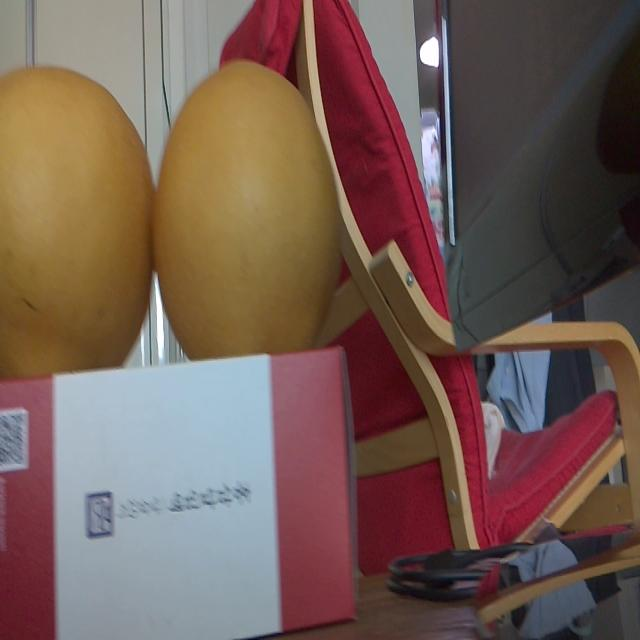pear: (152, 61, 342, 357), (0, 63, 154, 375)
